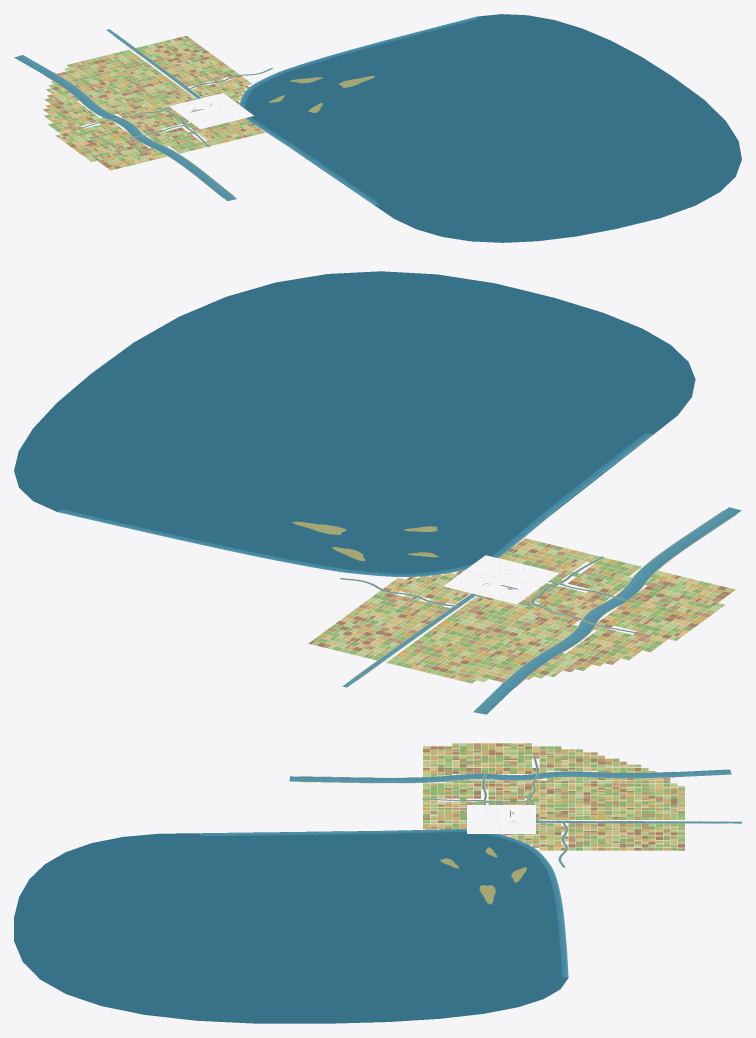
File: land.glb
3 renders of one model, top to bottom at view 1: azimuth 30°, elevation 25°; view 2: azimuth 150°, elevation 25°; view 3: azimuth 270°, elevation 25°, orthographic. The views are drawn at different scales.
Visible parts, largest first — view 1: decal-bay, decal-fields, decal-channels, decal-bay-edge, decal-levees, decal-tule; view 2: decal-bay, decal-fields, decal-channels, decal-bay-edge, decal-levees, decal-tule; view 3: decal-bay, decal-fields, decal-channels, decal-bay-edge, decal-levees, decal-tule.
Boxes of the visible parts, box(x1,y1,x2,y2) form: decal-bay: box(245, 14, 741, 242); decal-fields: box(43, 35, 264, 170); decal-channels: box(14, 29, 272, 200); decal-bay-edge: box(239, 16, 478, 204); decal-levees: box(44, 34, 272, 197); decal-tule: box(269, 76, 374, 112); decal-bay: box(14, 271, 695, 573); decal-fields: box(308, 538, 735, 683); decal-channels: box(340, 507, 741, 714); decal-bay-edge: box(58, 433, 652, 576); decal-levees: box(340, 511, 736, 687); decal-tule: box(292, 521, 438, 561); decal-bay: box(14, 829, 567, 1023); decal-fields: box(423, 743, 684, 850); decal-channels: box(289, 758, 741, 867); decal-bay-edge: box(200, 829, 568, 977); decal-levees: box(300, 758, 726, 867); decal-tule: box(440, 847, 526, 904).
Bounding box in the file's own units: 120334 × 170 × 132002.
